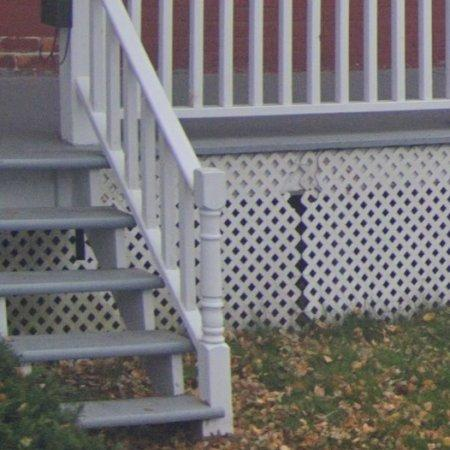stairs: (0, 136, 224, 428)
